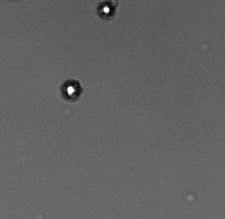Living Cell: (62, 79, 82, 101), (97, 1, 116, 18)
